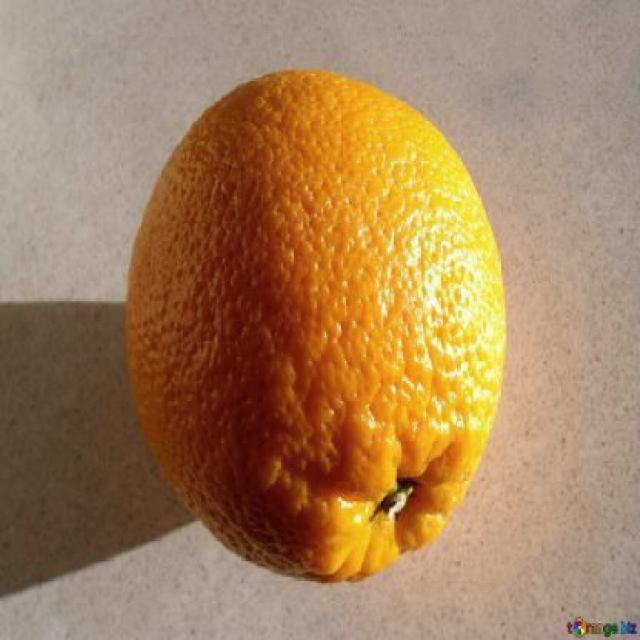Jeruk Sudah Matang: (124, 72, 507, 588)
